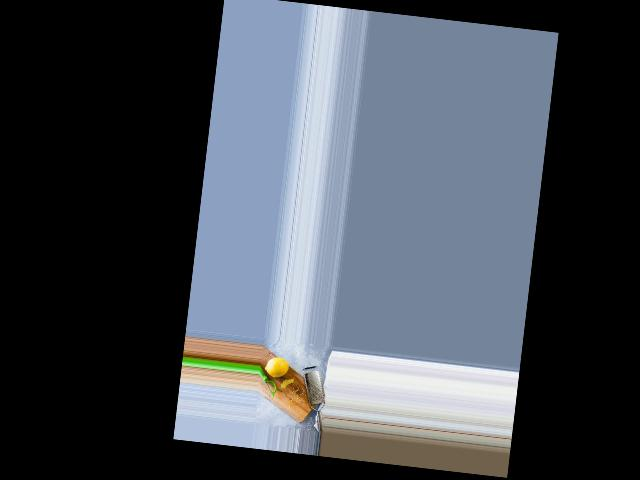lemon: (263, 355, 289, 379)
